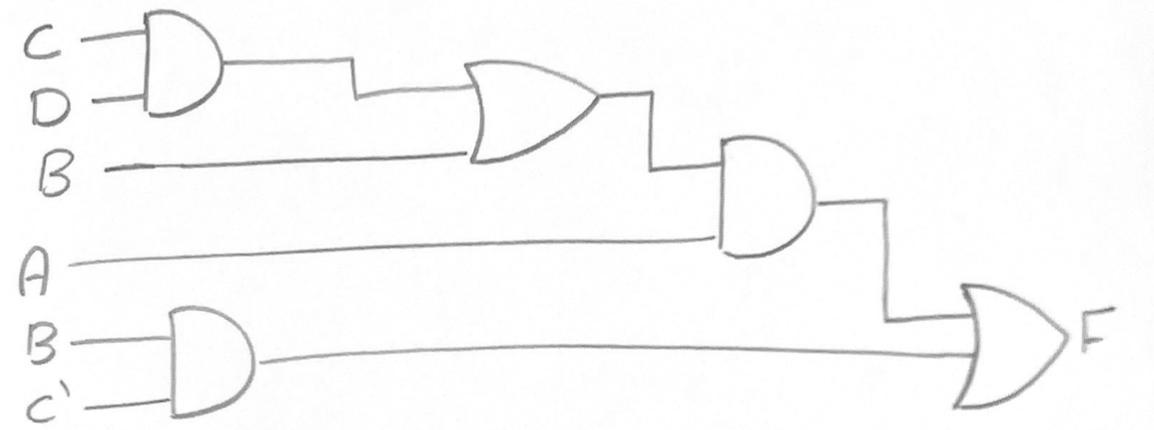AND: (708, 116, 839, 272), (149, 296, 263, 423), (131, 9, 238, 127)
OR: (450, 39, 613, 186), (931, 270, 1075, 416)
